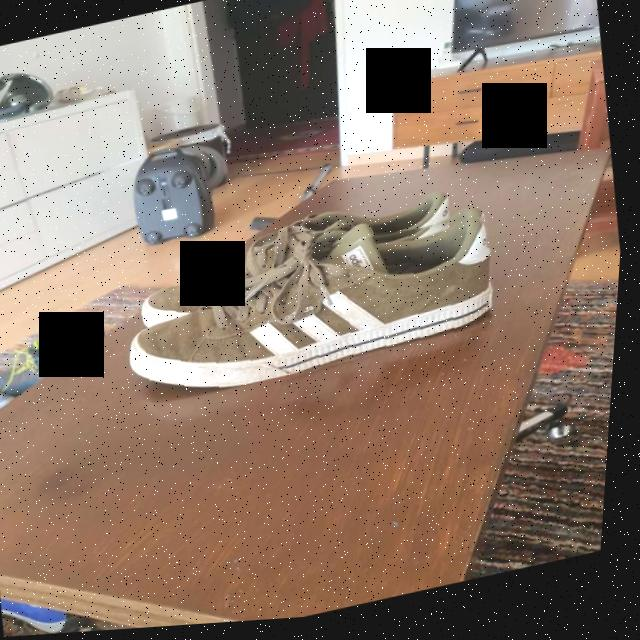shoe: (119, 210, 510, 413)
